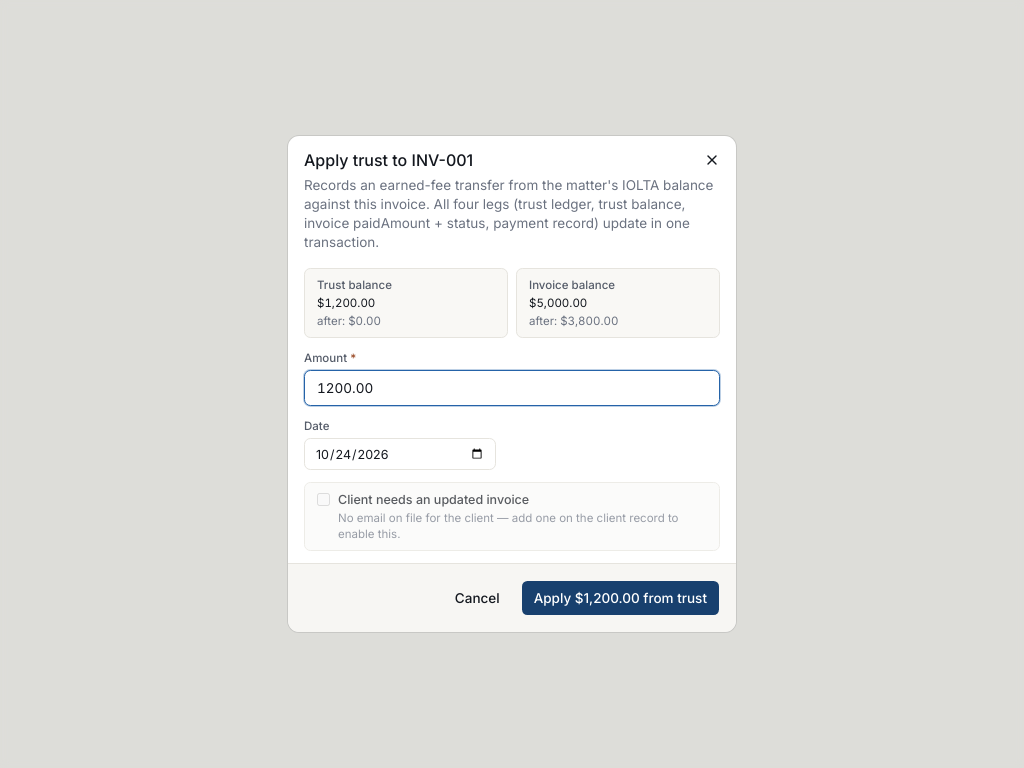
ApplyTrustDialog › cap: an amount above the trust balance is blocked, with the 'comma' form parsed correctly
The image size is (1024, 768).
Replace the text in the field labelled "Amount *" with "1,500": (512, 388) [304, 370, 720, 406]
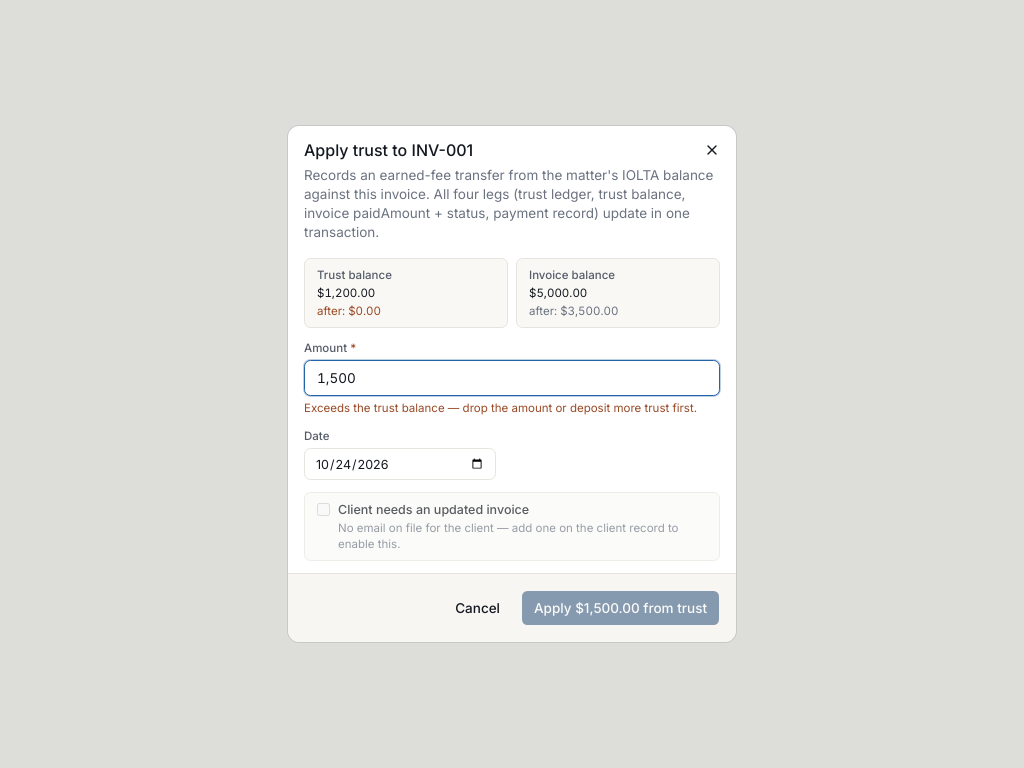
Now the button "Apply $1,500.00 from trust" is disabled, box [521, 590, 720, 626]
Now the text "Exceeds the trust balance" is shown, box [304, 401, 697, 415]
